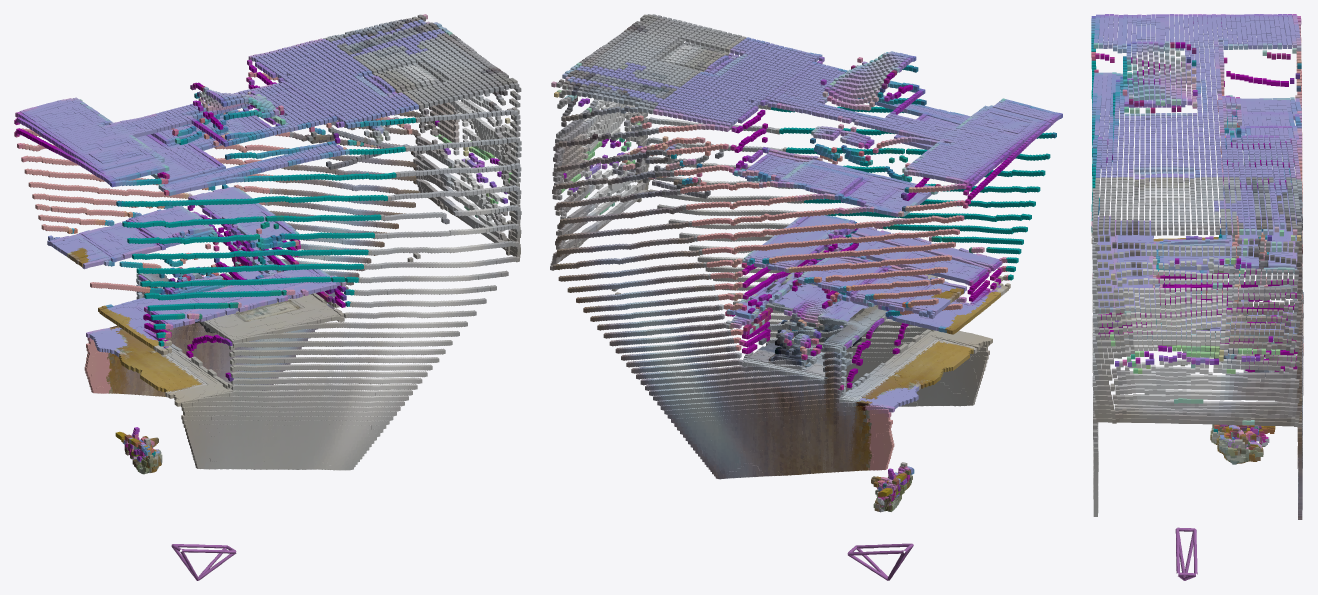
3 views of the same model, side by side, from view 1: azimuth 30°, elevation 25°; view 2: azimuth 150°, elevation 25°; view 3: azimuth 270°, elevation 25° (orthographic). The views are drawn at different scales.
Size of the model in its own units: 6.01 by 6.76 by 2.42.
